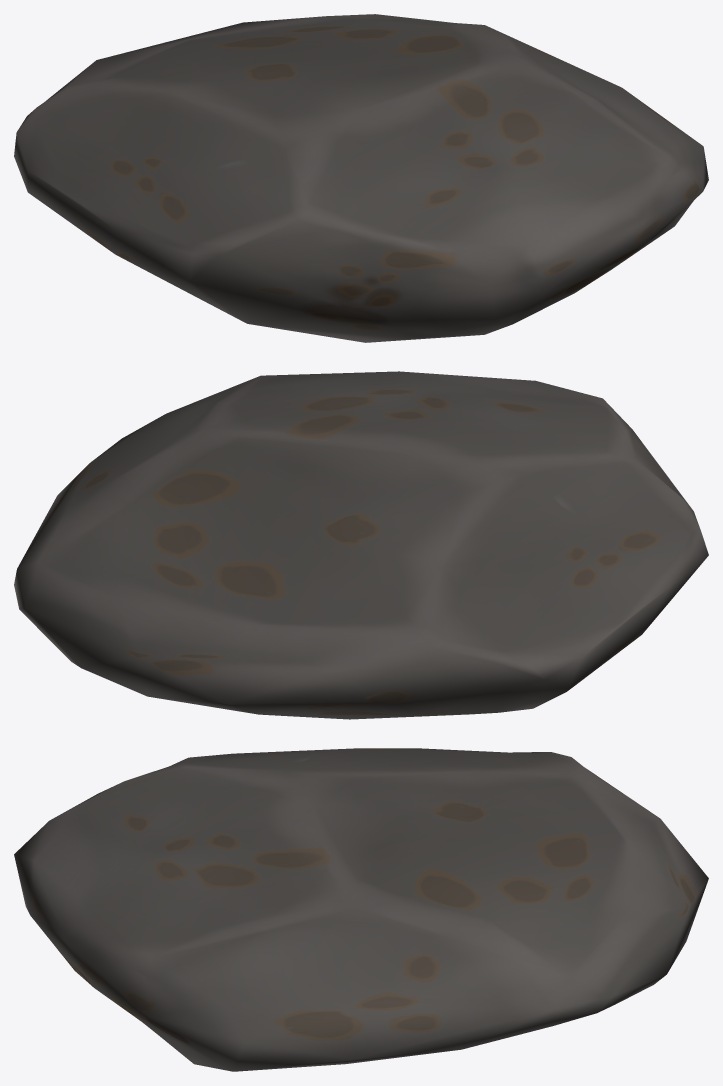
File: Rock Plant 1.FBX
The picture shows the model from 3 angles, top to bottom: view 1: azimuth 30°, elevation 25°; view 2: azimuth 150°, elevation 25°; view 3: azimuth 270°, elevation 25°; orthographic projection. The views are drawn at different scales.
Parts seen in each view (by area): view 1: ROCK Plant 1; view 2: ROCK Plant 1; view 3: ROCK Plant 1.
Boxes of the visible parts, x1=… form: ROCK Plant 1: x1=14, y1=14, x2=708, y2=342; ROCK Plant 1: x1=14, y1=371, x2=708, y2=719; ROCK Plant 1: x1=14, y1=748, x2=708, y2=1071.
Size of the model in its own units: 97.82 by 106 by 27.3.
